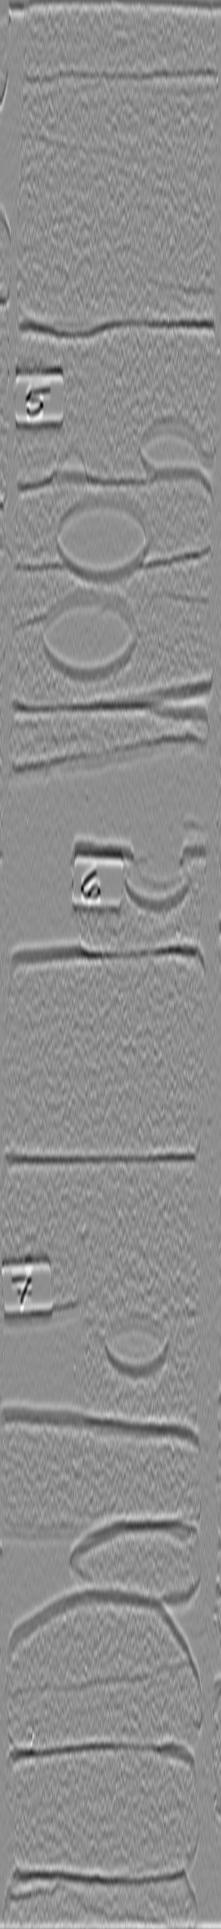hplug: (135, 415, 207, 483), (101, 1314, 172, 1379), (122, 859, 194, 913)
scal: (42, 591, 138, 684), (55, 495, 153, 583)
vplug: (41, 331, 104, 481), (21, 1227, 85, 1314)
